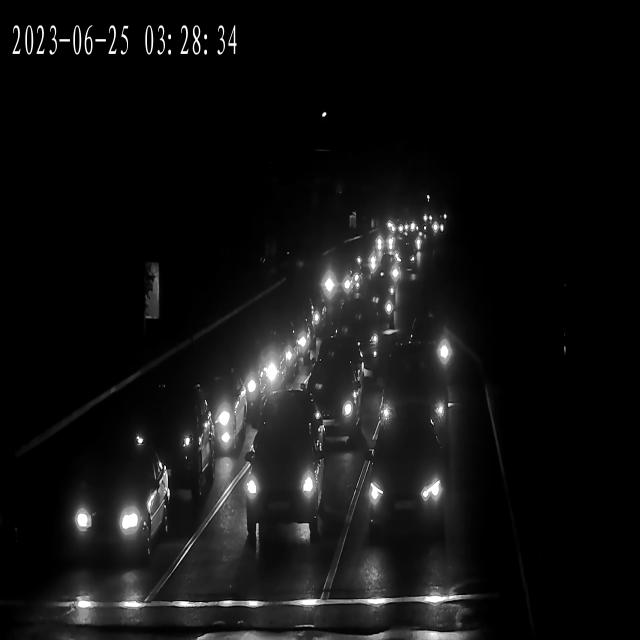Car: (57, 446, 170, 568), (368, 350, 454, 462), (122, 386, 205, 499), (362, 443, 451, 537), (245, 424, 324, 525), (190, 368, 255, 462), (301, 352, 360, 449), (228, 329, 302, 395), (220, 350, 280, 415), (264, 310, 322, 364), (334, 316, 379, 380), (412, 322, 452, 380), (284, 290, 334, 334), (324, 262, 366, 300), (370, 277, 397, 312), (349, 246, 380, 274), (389, 244, 418, 270), (392, 248, 420, 273), (372, 234, 397, 254), (369, 231, 394, 250)
